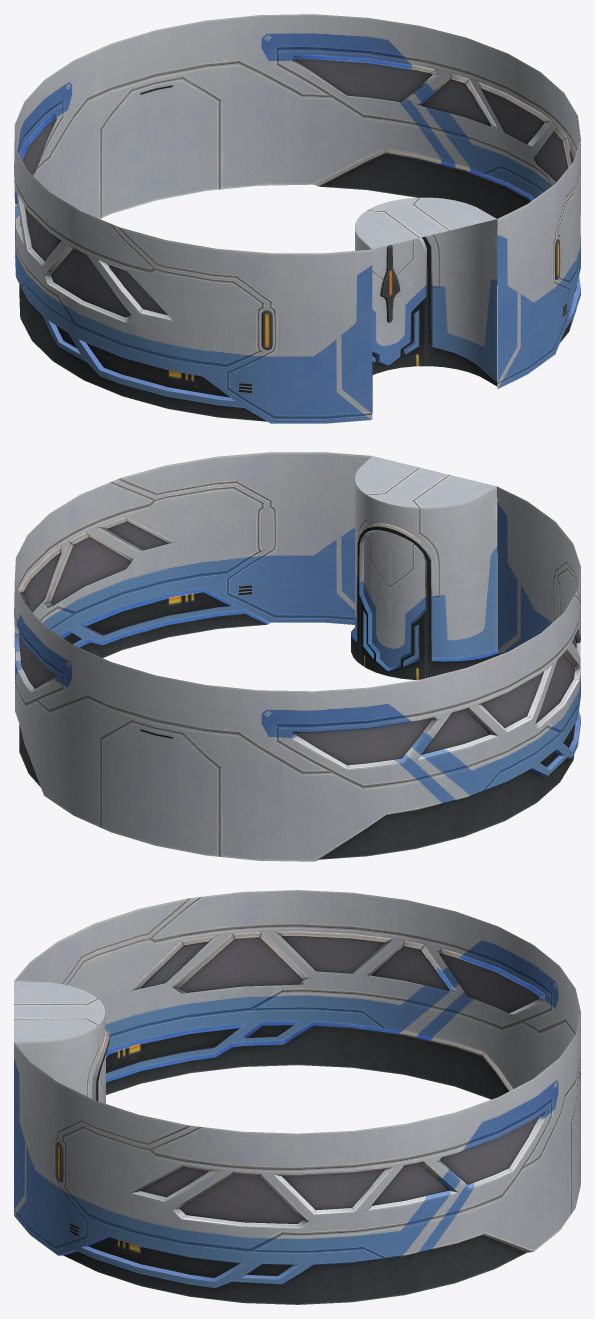
Rendered from mesh_1003_zhucheng_zjz_hexin001.FBX.
3 views of the same model, one above another, from view 1: azimuth 30°, elevation 25°; view 2: azimuth 150°, elevation 25°; view 3: azimuth 270°, elevation 25° (orthographic).
Visible parts, largest first — view 1: mesh_1003_zhucheng_zjz_hexin001; view 2: mesh_1003_zhucheng_zjz_hexin001; view 3: mesh_1003_zhucheng_zjz_hexin001.
Boxes of the visible parts, x1,y1,x2,y2 form: mesh_1003_zhucheng_zjz_hexin001: (14,14,580,423); mesh_1003_zhucheng_zjz_hexin001: (14,452,580,861); mesh_1003_zhucheng_zjz_hexin001: (14,890,580,1304).
Size of the model in its own units: 2293 by 760 by 2256.
1 material, 1 textured.
